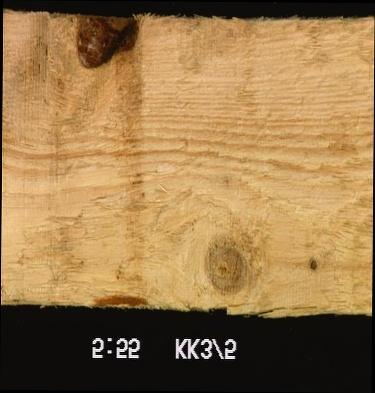small_knot: (305, 256, 321, 273)
sound_knot: (200, 224, 268, 301)
